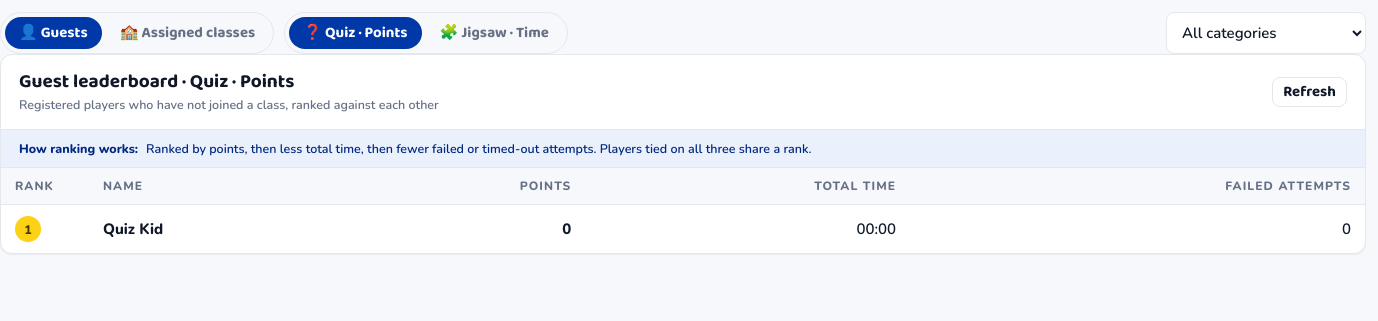
Test case: leaderboard boards › switches to the Jigsaw time board with its own columns and note
Expected: the text "Quiz Kid" is shown, [89, 204, 350, 253]
Click the tab "🧩 Jigsaw · Time". click: (494, 33)
box: [426, 17, 563, 49]
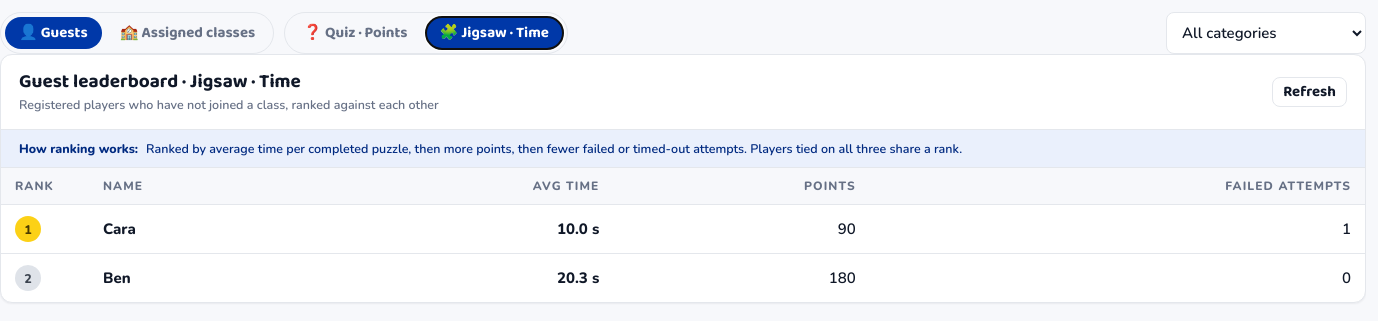
Now the text "Cara" is shown, box [89, 204, 309, 254]
Now the cells read "2", "Ben", "20.3 s", "180", "0", in this order, box [1, 254, 89, 302]; [89, 254, 309, 302]; [309, 254, 613, 302]; [613, 254, 870, 302]; [870, 254, 1365, 302]
Now the text "Ranked by average time per completed puzzle, then more points, then fewer failed or timed-out attempts. Players tied on " is shown, box [146, 140, 962, 157]
